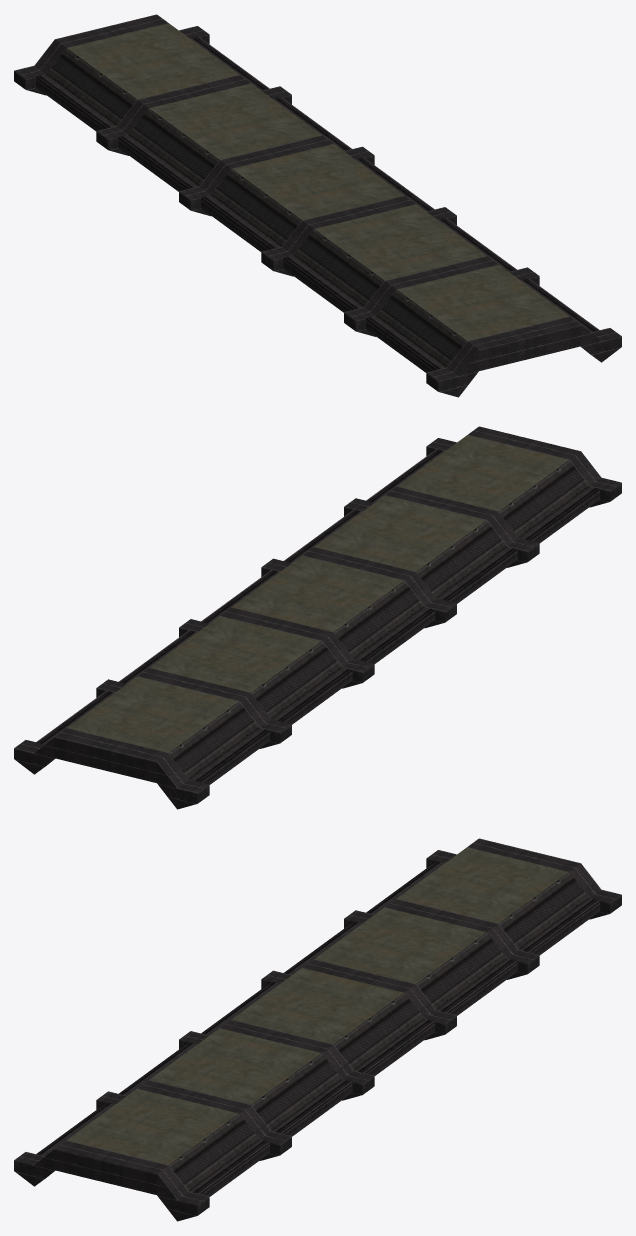
File: bridge6_alt.fbx
3 renders of one model, top to bottom at view 1: azimuth 30°, elevation 25°; view 2: azimuth 150°, elevation 25°; view 3: azimuth 330°, elevation 25°, orthographic.
Parts seen in each view (by area): view 1: Object; view 2: Object; view 3: Object.
Boxes of the visible parts, x1,y1,x2,y2 form: Object: (14, 14, 621, 397); Object: (14, 426, 621, 809); Object: (14, 838, 621, 1221).
Bounding box in the file's own units: 1800 × 400 × 7200.
